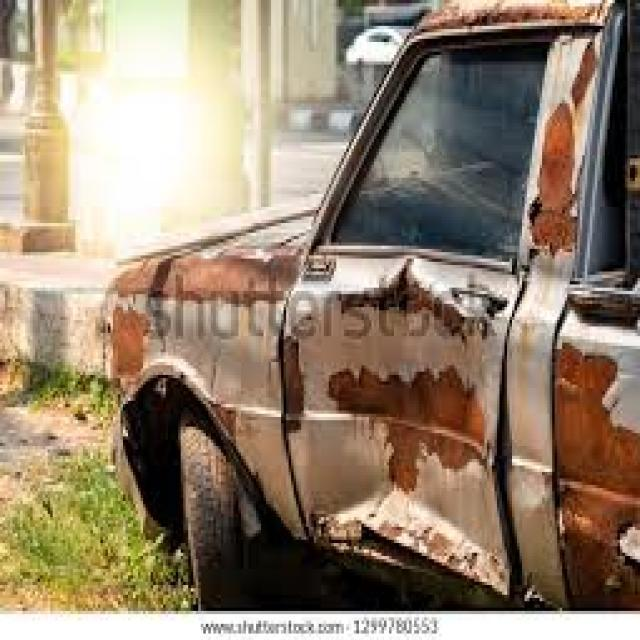damaged-door: (286, 27, 552, 588)
